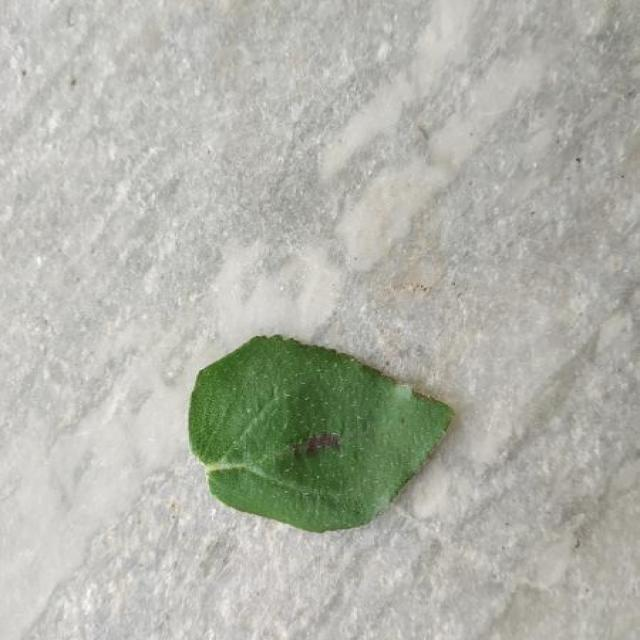Astma_weed: (188, 336, 453, 532)
defectetedAstma_weed: (240, 430, 367, 497)
